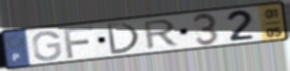2: (225, 8, 260, 45)
3: (192, 11, 220, 48)
D: (105, 22, 142, 56)
F: (62, 25, 96, 59)
G: (31, 30, 64, 62)
R: (143, 17, 181, 51)
